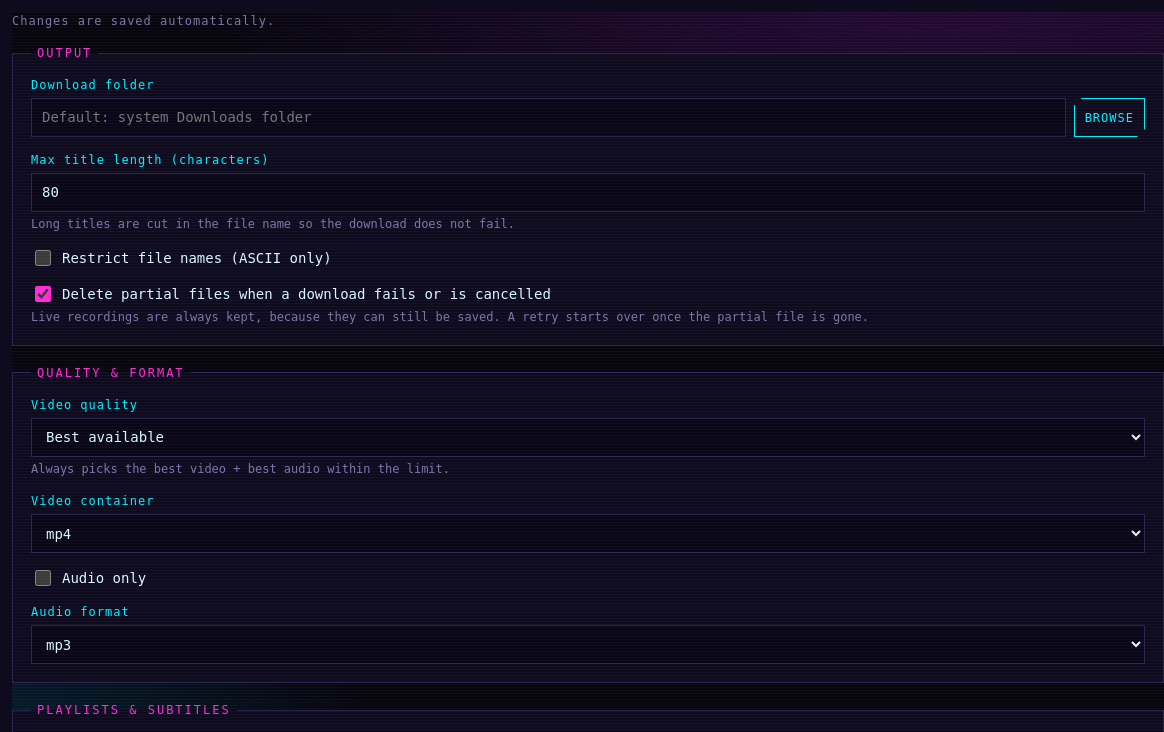
it: SettingsPanel auto-save of text and number fields (2 s after typing) › saves "Download folder" only after the delay
In the field labelled "Download folder": (548, 118) [31,98,1066,137], type "/media"
Wait 2000 ms
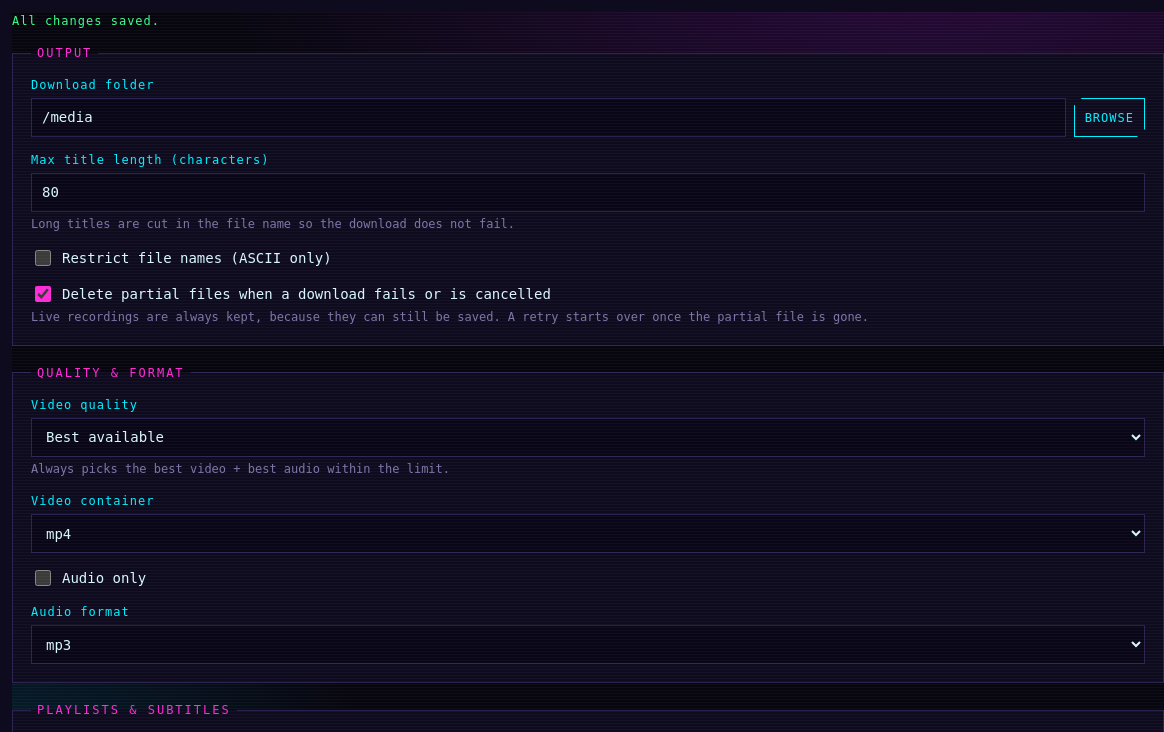
expect the text "All changes saved." is shown: met, box [12,14,160,28]
